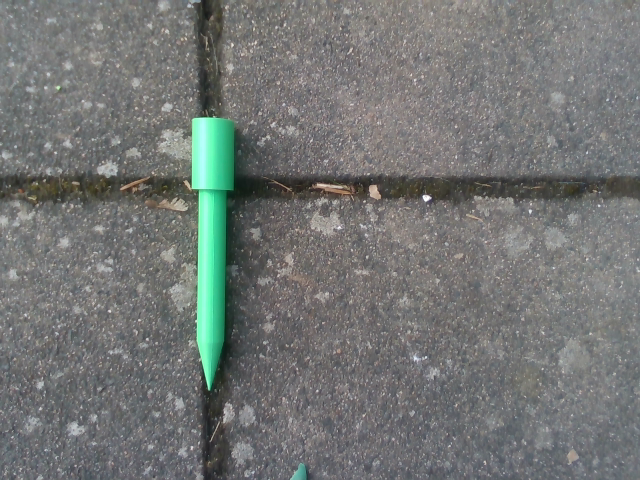Probe: (185, 109, 239, 396)
